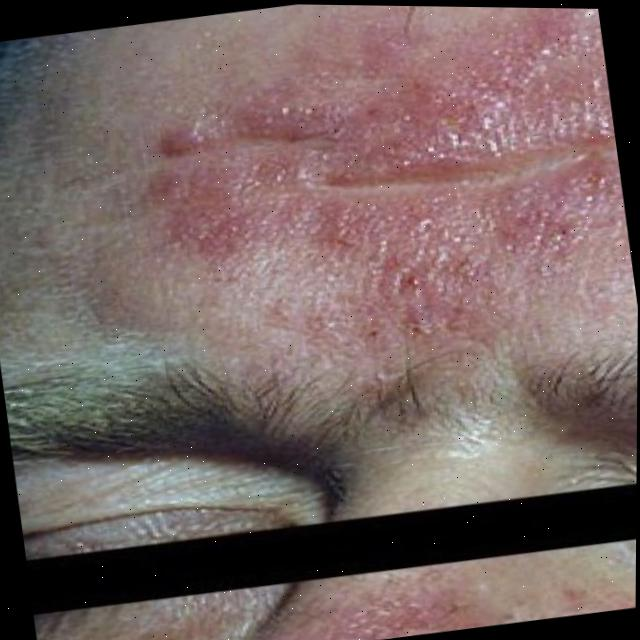Rosacea: (147, 2, 614, 365)
